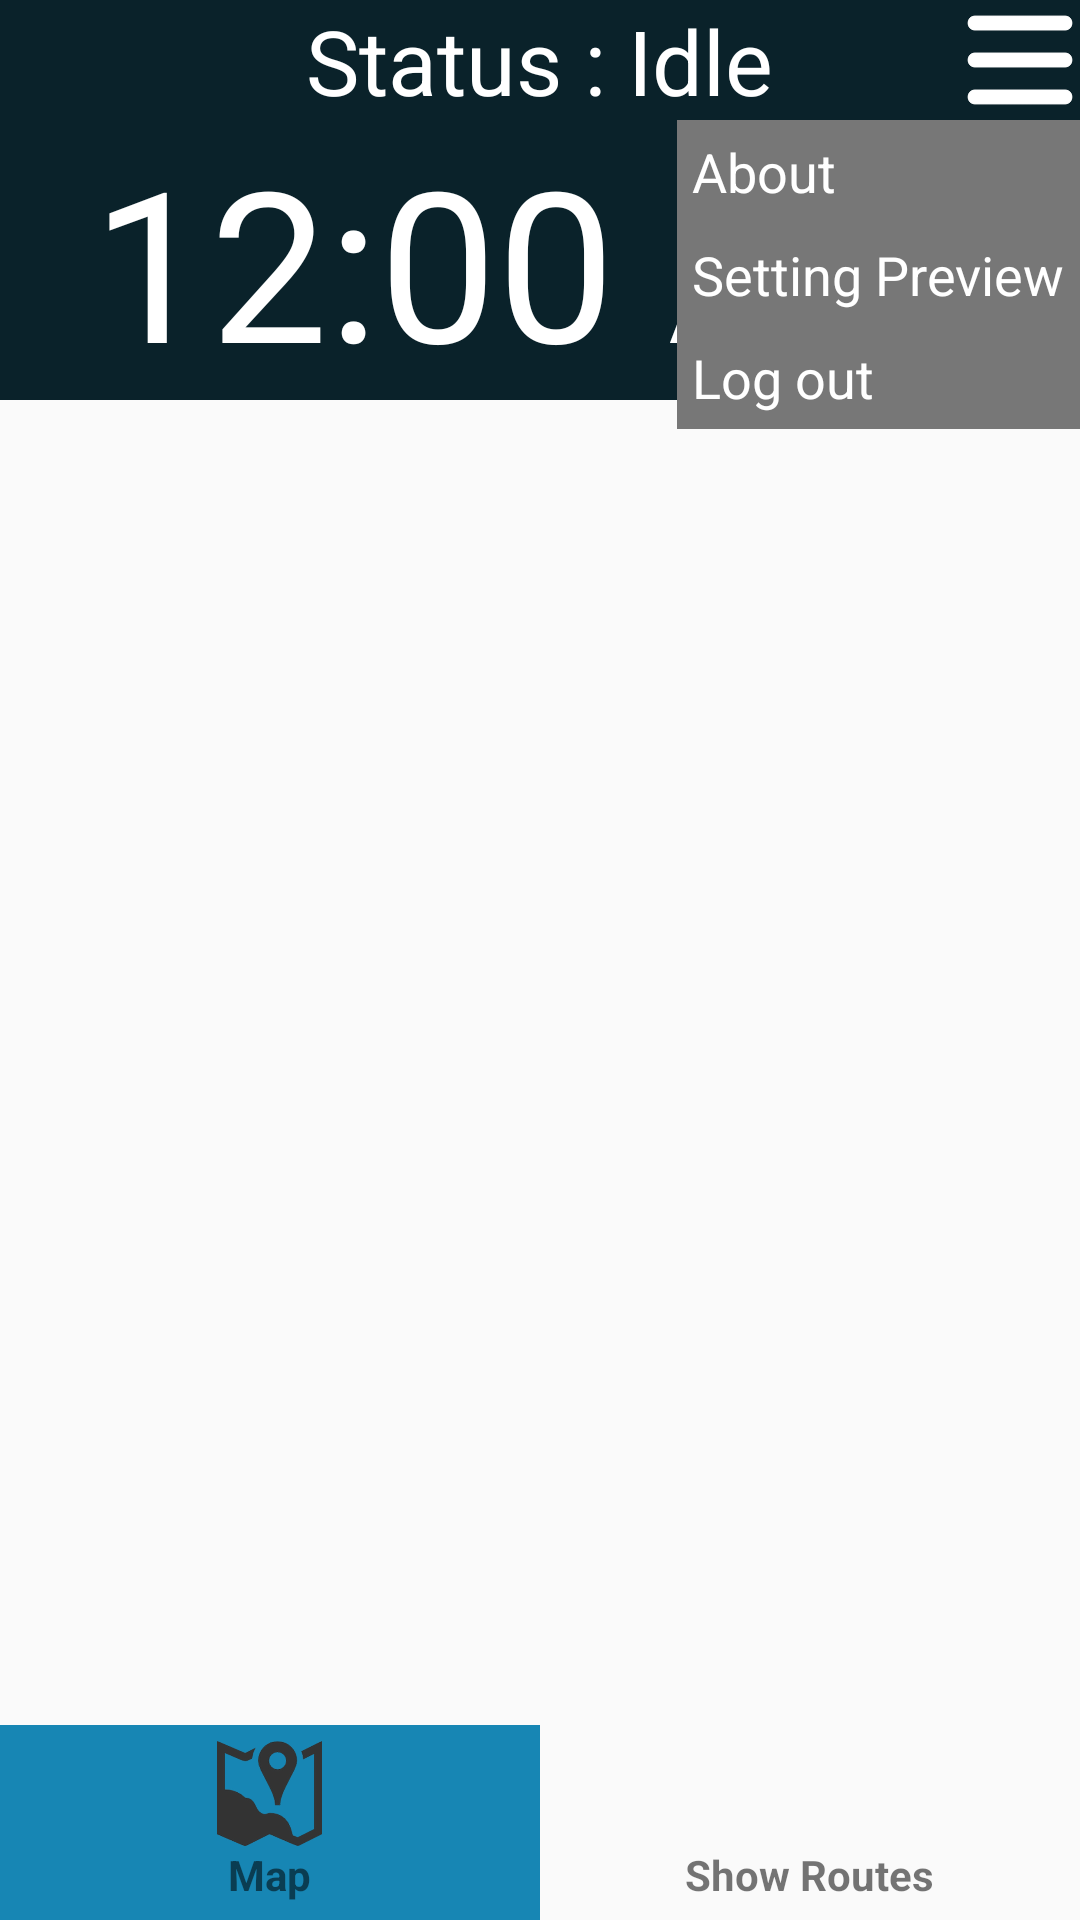

Named icons in this screenshot (1080 × 1920) and their bounding boxes, (x1, y1, x2, y2):
menu: (967, 15, 1073, 105)
